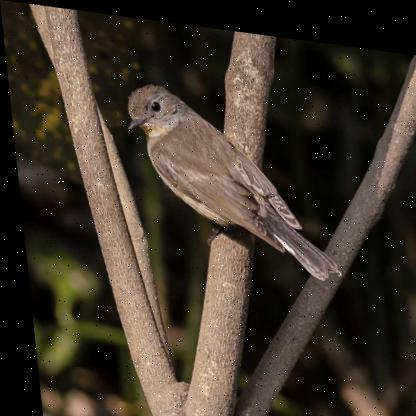Burung: (112, 76, 339, 287)
